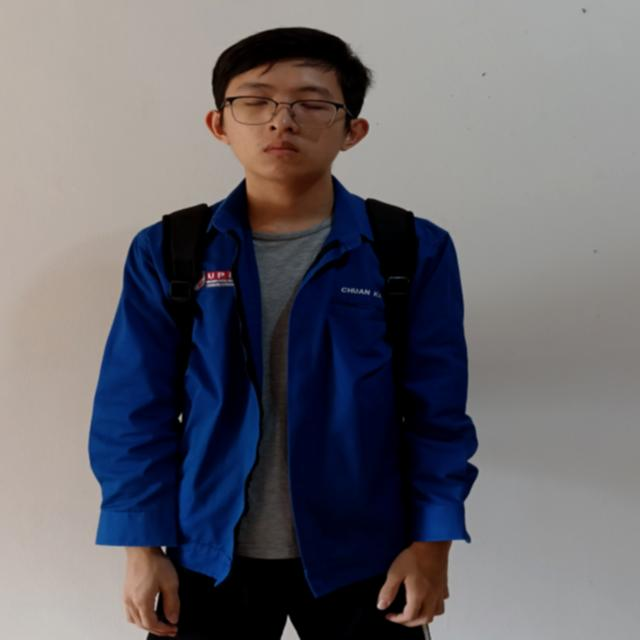person_with_labcoat: (91, 28, 477, 640)
